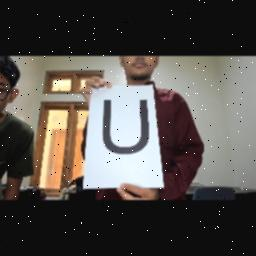u: (100, 95, 152, 155)
